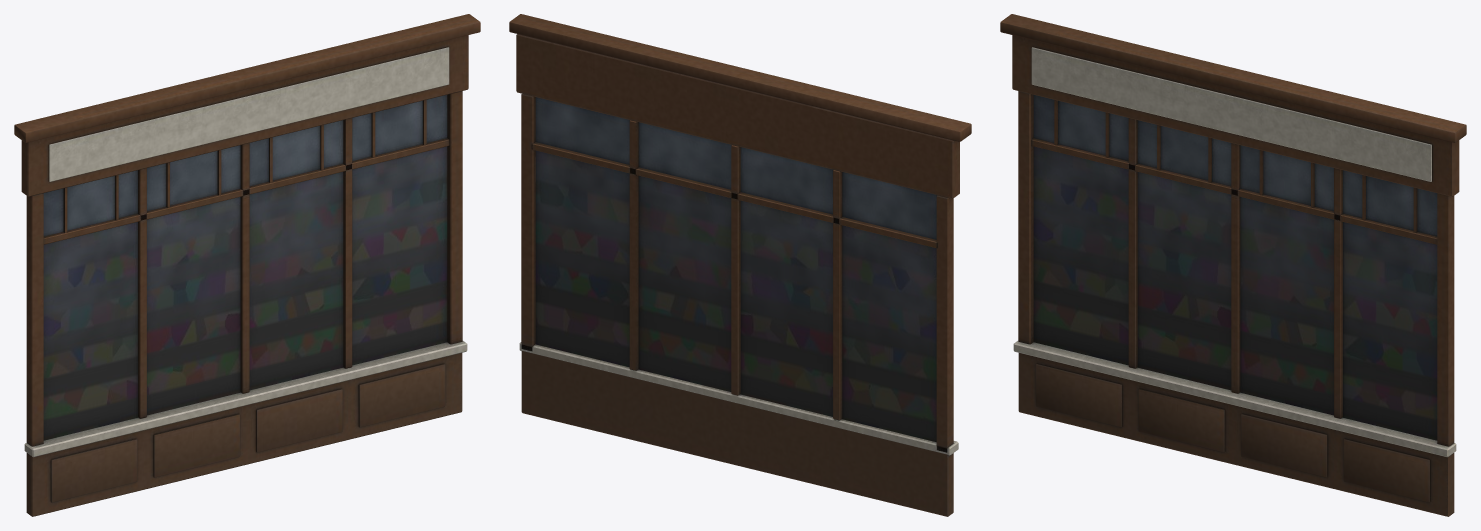
File: shop_town_40_brown.glb
3 views of the same model, side by side, from view 1: azimuth 30°, elevation 25°; view 2: azimuth 150°, elevation 25°; view 3: azimuth 330°, elevation 25° (orthographic).
Parts seen in each view (by area): view 1: shop_town_40_brown; view 2: shop_town_40_brown; view 3: shop_town_40_brown.
Part boxes in pixels (x1=…): shop_town_40_brown: x1=14, y1=14, x2=480, y2=516; shop_town_40_brown: x1=509, y1=14, x2=971, y2=516; shop_town_40_brown: x1=1000, y1=14, x2=1466, y2=516.
Bounding box in the file's own units: 4.44 × 3.65 × 0.2.
1 material, 1 textured.
